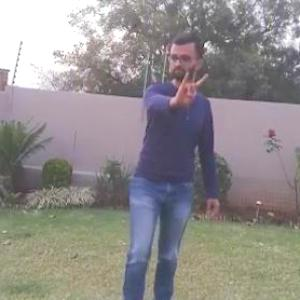takeoff-hand: (172, 63, 214, 111)
